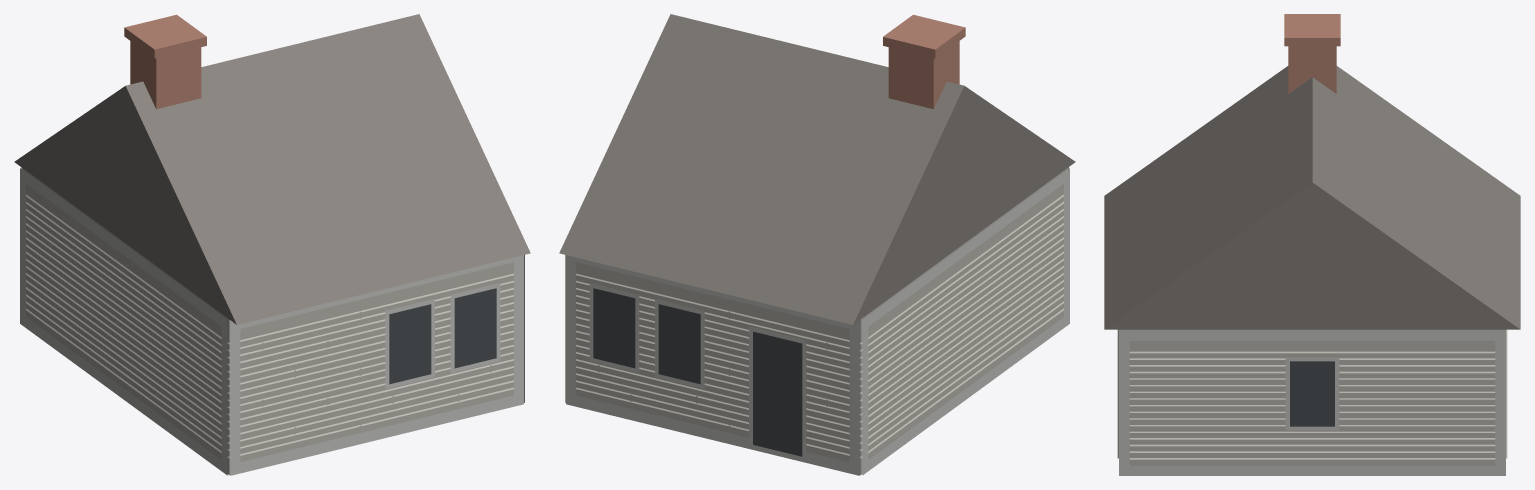
Rendered from recon_1835_west_016__inferred_1835.glb.
3 renders of one model, left to right at view 1: azimuth 30°, elevation 25°; view 2: azimuth 150°, elevation 25°; view 3: azimuth 270°, elevation 25°, orthographic. The views are drawn at different scales.
Parts seen in each view (by area): view 1: recon_1835_west_016__inferred_1835; view 2: recon_1835_west_016__inferred_1835; view 3: recon_1835_west_016__inferred_1835.
Part boxes in pixels (x1,y1,x2,y2): recon_1835_west_016__inferred_1835: [14, 14, 530, 475]; recon_1835_west_016__inferred_1835: [559, 14, 1075, 475]; recon_1835_west_016__inferred_1835: [1104, 14, 1520, 475].
Size of the model in its own units: 5.57 by 6.37 by 7.21.
